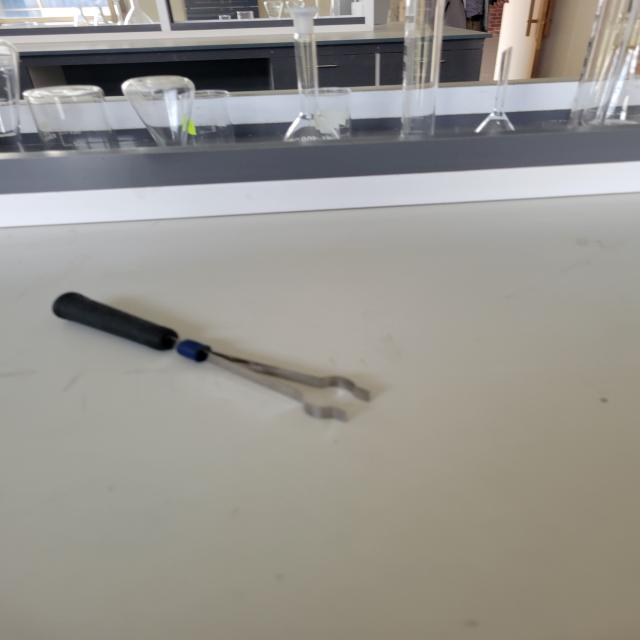TestTube_Holder: (36, 259, 402, 459)
